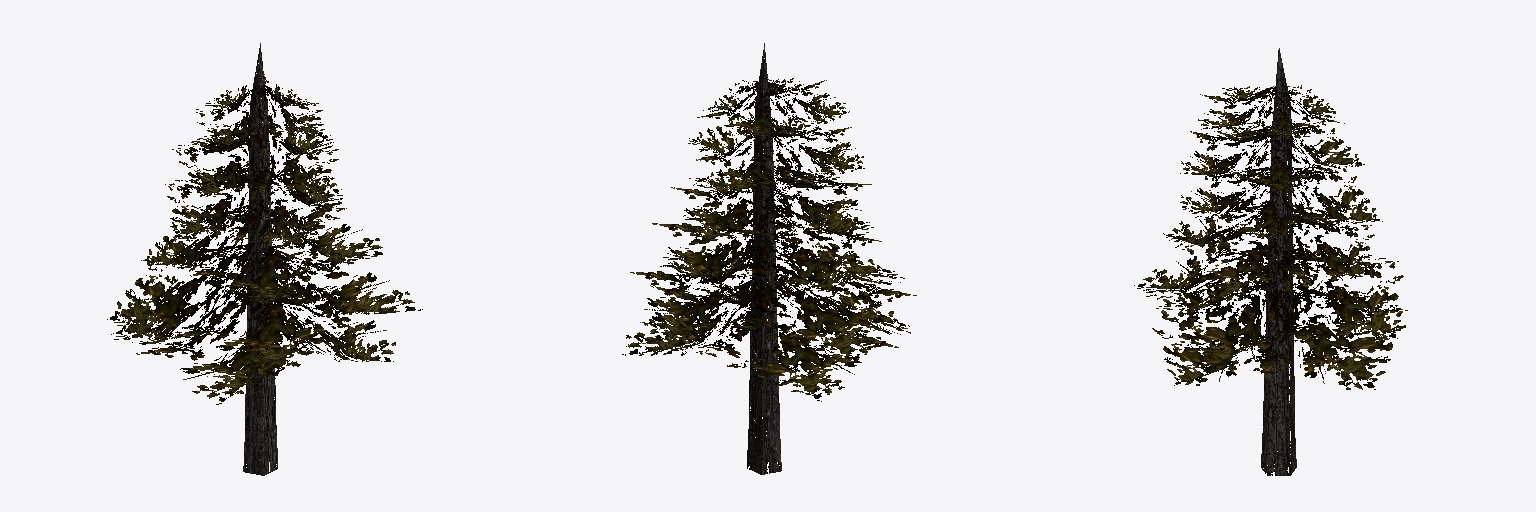
3 renders of one model, left to right at view 1: azimuth 30°, elevation 25°; view 2: azimuth 150°, elevation 25°; view 3: azimuth 270°, elevation 25°, orthographic.
Parts seen in each view (by area): view 1: Mesh_0, Mesh_1; view 2: Mesh_0, Mesh_1; view 3: Mesh_0, Mesh_1.
Boxes of the visible parts, x1,y1,x2,y2 form: Mesh_0: [107, 74, 422, 404]; Mesh_1: [243, 43, 277, 475]; Mesh_0: [622, 78, 916, 401]; Mesh_1: [747, 43, 781, 474]; Mesh_0: [1134, 85, 1407, 389]; Mesh_1: [1261, 48, 1296, 475].
Bounding box in the file's own units: 3.73 × 5.61 × 3.58.
Materials: 2 (2 with a texture image).